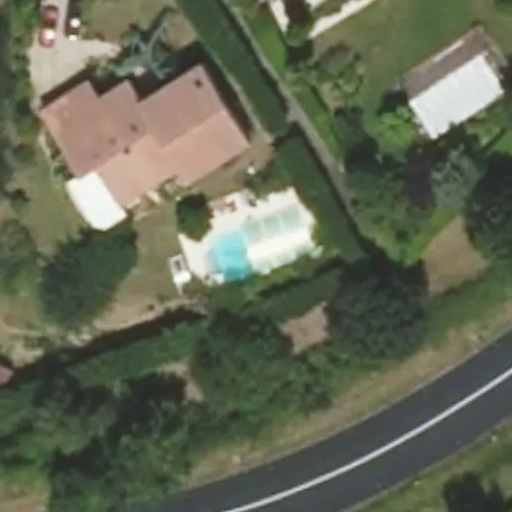pool: (193, 240, 310, 248)
